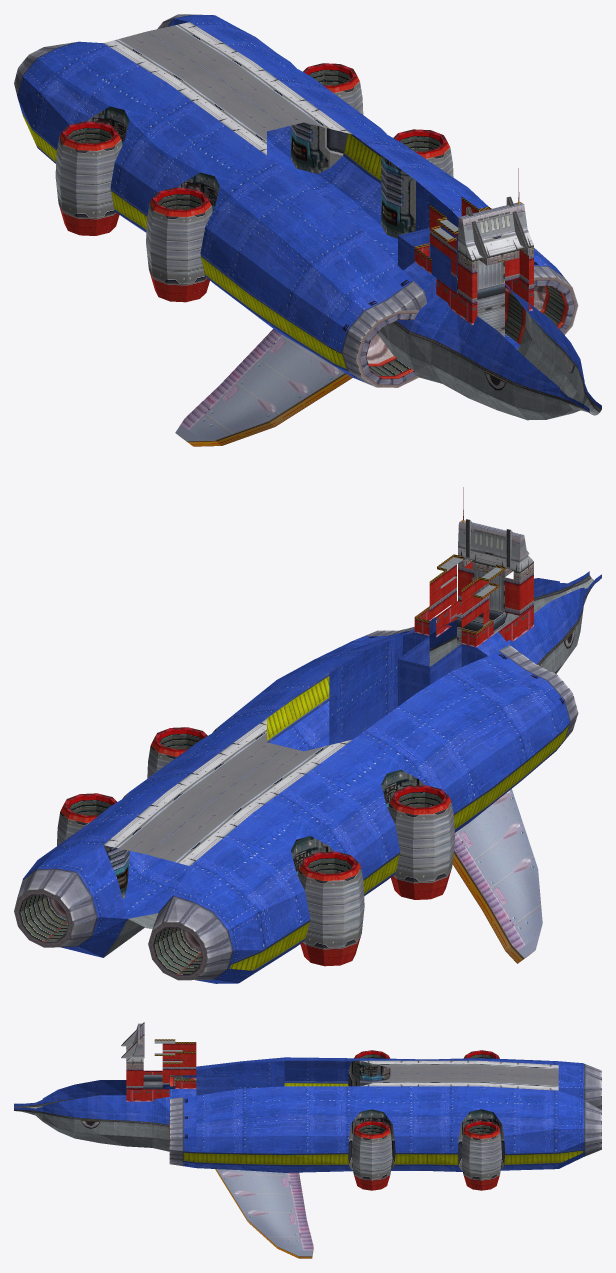
3 renders of one model, top to bottom at view 1: azimuth 30°, elevation 25°; view 2: azimuth 150°, elevation 25°; view 3: azimuth 270°, elevation 25°, orthographic. The views are drawn at different scales.
Parts seen in each view (by area): view 1: s13_on_31_16, s13_on_31_5, s13_on_31_3, s13_on_31_20, s13_on_31_18, s13_on_31_8, s13_on_31_14, s13_on_31_11, s13_on_31_17, s13_on_31_6, s13_on_31_9, s13_on_31_23 (+6 smaller); view 2: s13_on_31_16, s13_on_31_5, s13_on_31_3, s13_on_31_11, s13_on_31_20, s13_on_31_17, s13_on_31_6, s13_on_31_8, s13_on_31_9, s13_on_31_14, s13_on_31_18, s13_on_31_15 (+6 smaller); view 3: s13_on_31_16, s13_on_31_20, s13_on_31_5, s13_on_31_17, s13_on_31_11, s13_on_31_3, s13_on_31_18, s13_on_31_14, s13_on_31_8, s13_on_31_9, s13_on_31_23, s13_on_31_6 (+1 smaller).
Part boxes in pixels (box(x1,y1,x2,y2)): s13_on_31_16: box(17, 15, 601, 412); s13_on_31_5: box(104, 22, 533, 260); s13_on_31_3: box(55, 81, 504, 337); s13_on_31_20: box(175, 329, 344, 440); s13_on_31_18: box(377, 209, 599, 420); s13_on_31_8: box(58, 199, 578, 387); s13_on_31_14: box(88, 66, 415, 238); s13_on_31_11: box(14, 14, 571, 386); s13_on_31_17: box(21, 111, 381, 370); s13_on_31_6: box(67, 69, 568, 378); s13_on_31_9: box(59, 63, 465, 265); s13_on_31_23: box(414, 245, 533, 325); s13_on_31_16: box(23, 571, 601, 983); s13_on_31_5: box(104, 545, 533, 865); s13_on_31_3: box(57, 569, 504, 947); s13_on_31_11: box(15, 520, 578, 979); s13_on_31_20: box(454, 789, 542, 958); s13_on_31_17: box(230, 673, 569, 970); s13_on_31_6: box(19, 733, 442, 975); s13_on_31_8: box(300, 561, 533, 966); s13_on_31_9: box(60, 587, 489, 881); s13_on_31_14: box(103, 726, 423, 898); s13_on_31_18: box(429, 557, 593, 673); s13_on_31_15: box(14, 889, 207, 980); s13_on_31_16: box(14, 1057, 582, 1172); s13_on_31_20: box(216, 1169, 313, 1256); s13_on_31_5: box(126, 1041, 558, 1090); s13_on_31_17: box(183, 1081, 582, 1166); s13_on_31_11: box(138, 1023, 601, 1167); s13_on_31_3: box(143, 1058, 501, 1179); s13_on_31_18: box(16, 1040, 182, 1151); s13_on_31_14: box(348, 1060, 505, 1170); s13_on_31_8: box(126, 1043, 499, 1190); s13_on_31_9: box(162, 1050, 499, 1138); s13_on_31_23: box(126, 1070, 196, 1101); s13_on_31_6: box(169, 1054, 494, 1141).
Size of the model in its own units: 2829 by 2614 by 6801.
24 materials, 24 textured.
